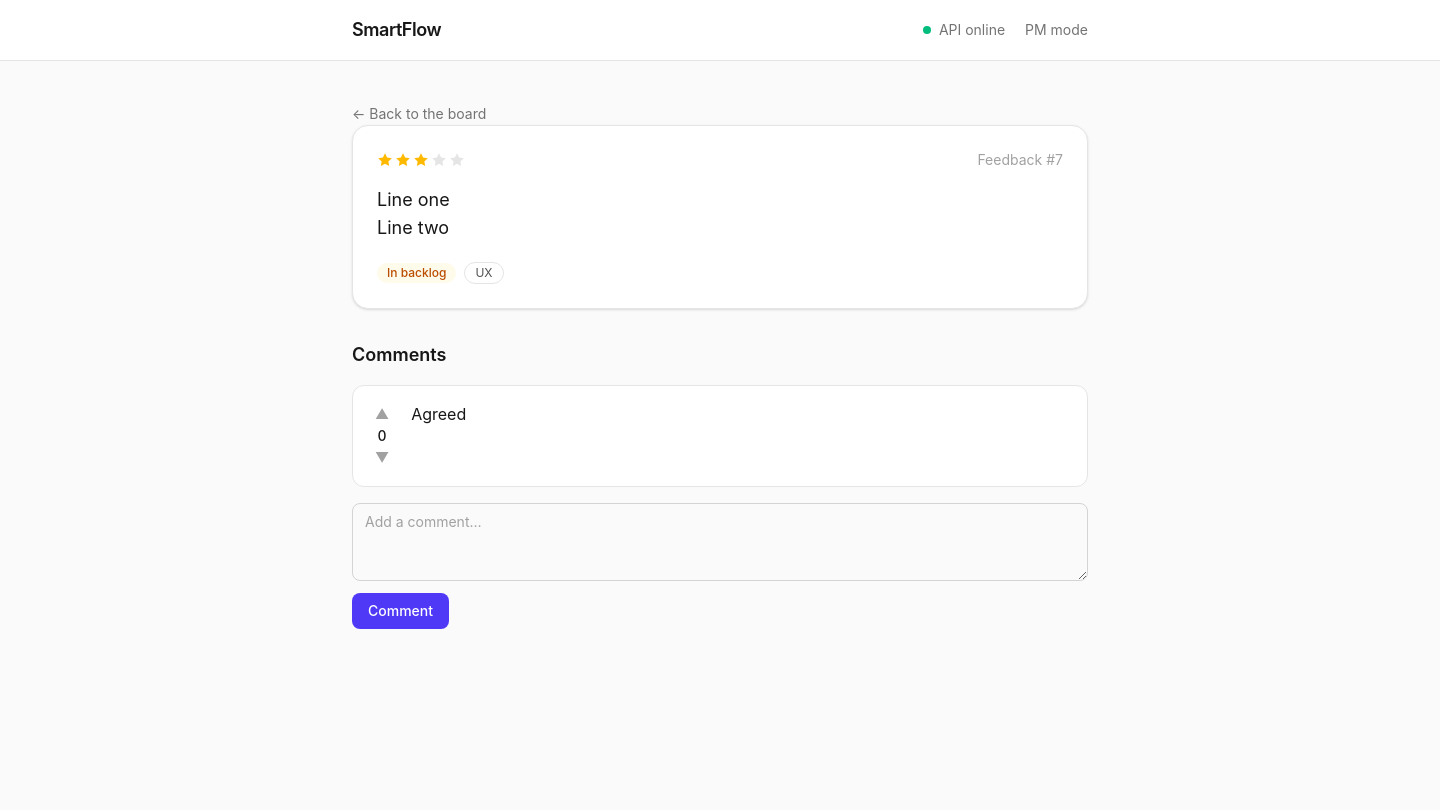
Test: Comments and votes (spec 006) › AC-5: shows API errors from voting and commenting
Click the button named "Upvote" at (382, 414), box [369, 402, 395, 426]
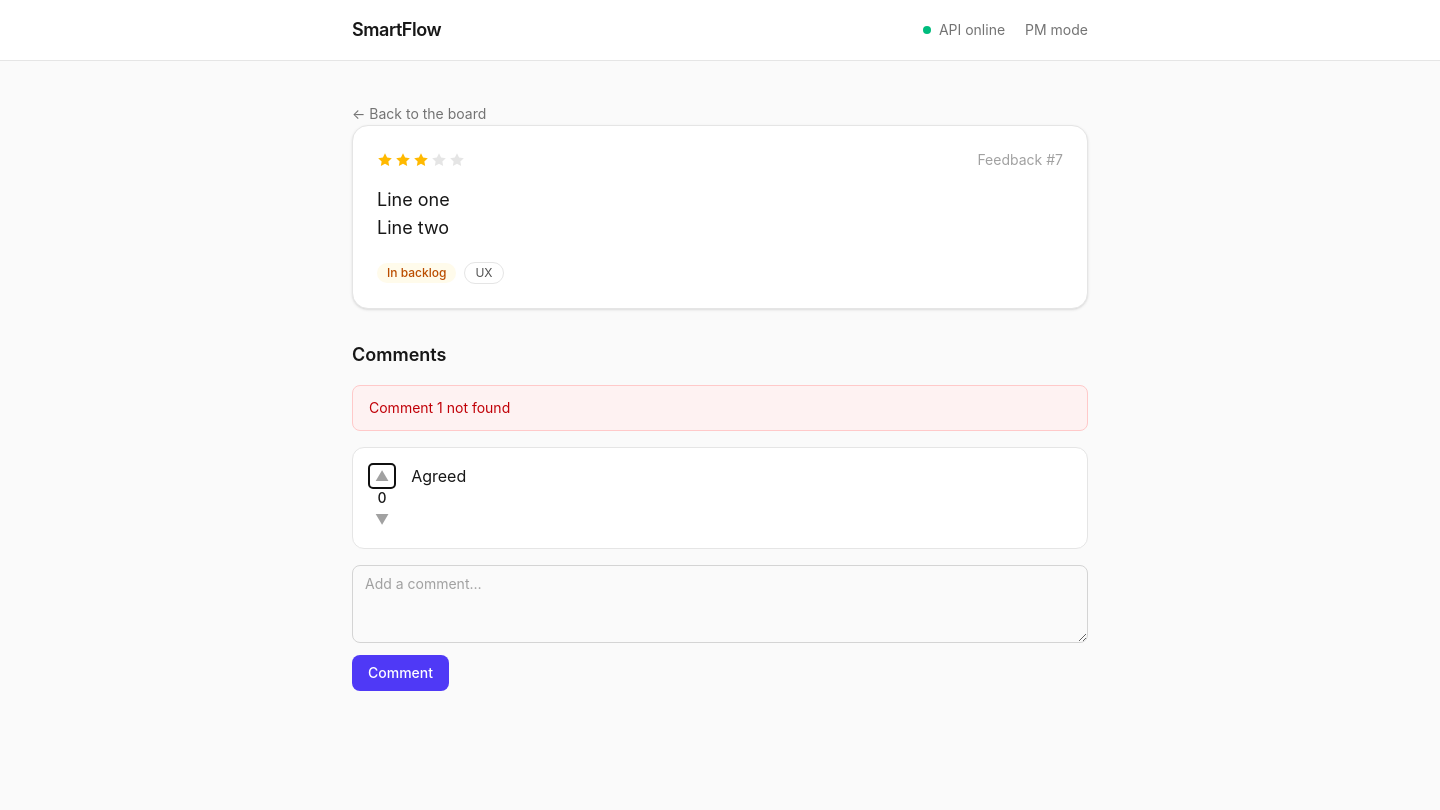
expect the text "Comment 1 not found" is shown: met, box [352, 385, 1088, 431]
Type "Hi" into the text box named "Your comment" at (720, 604), box [352, 565, 1088, 643]
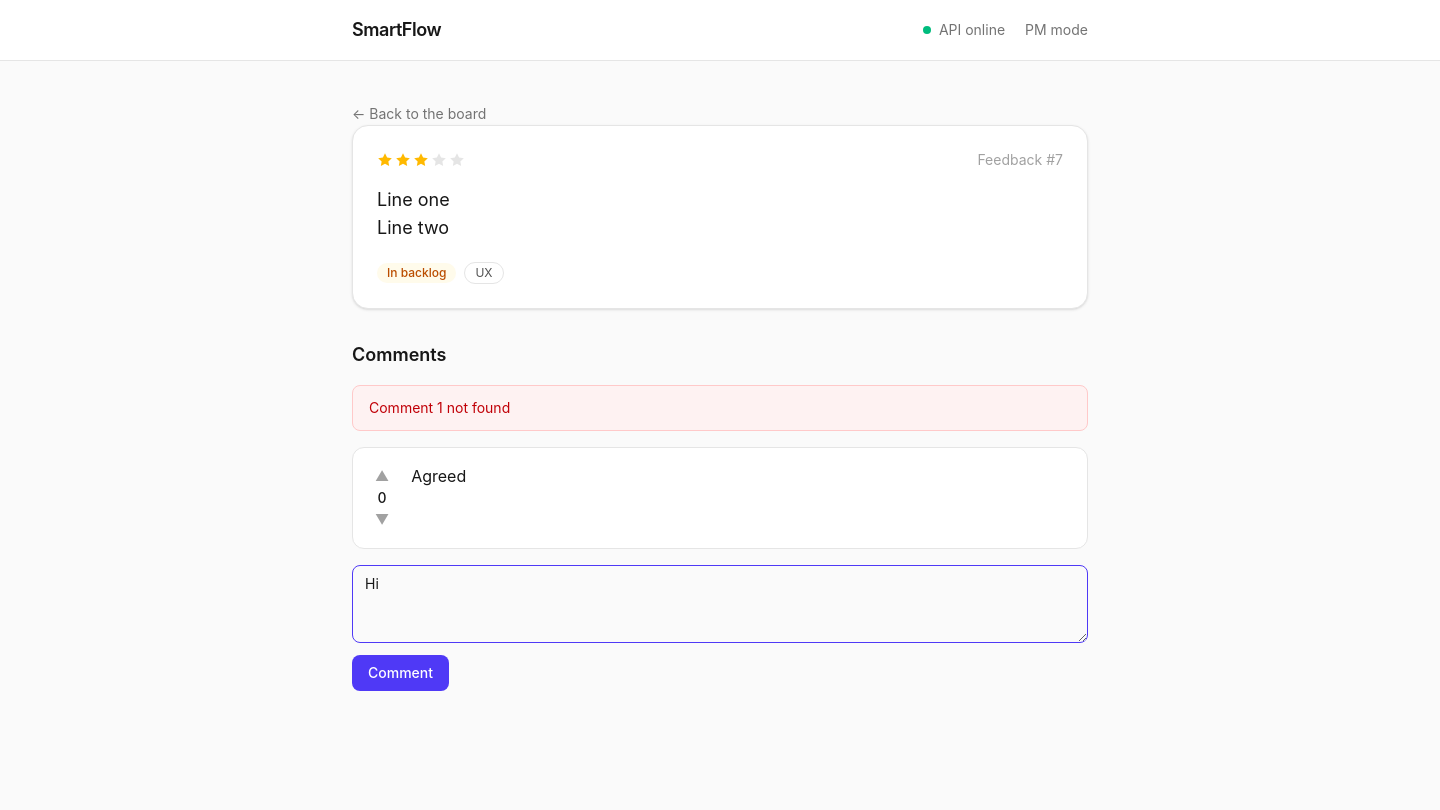
Click the button "Comment" at (400, 673), box [352, 655, 449, 691]
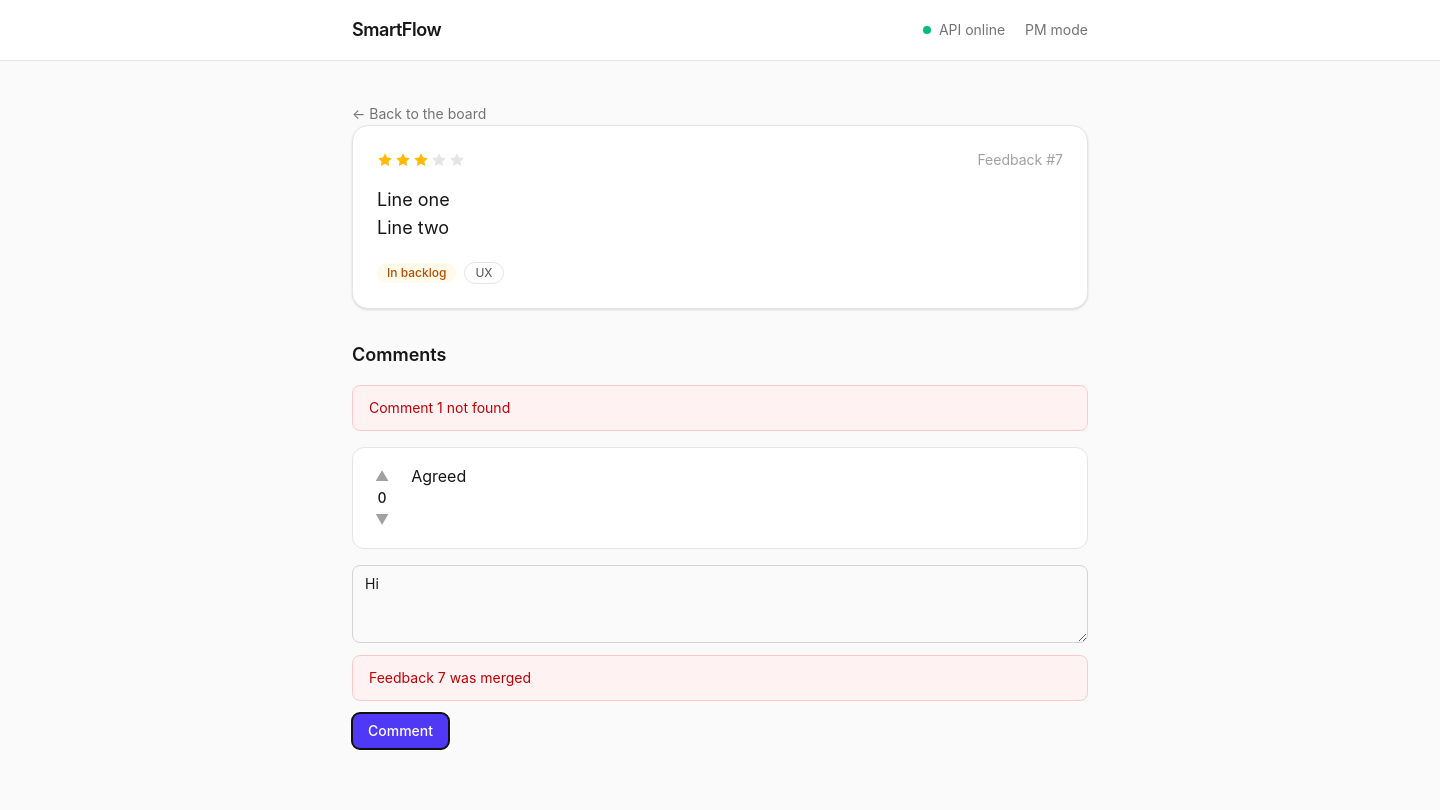
expect the text "Feedback 7 was merged" is shown: met, box [352, 655, 1088, 701]
